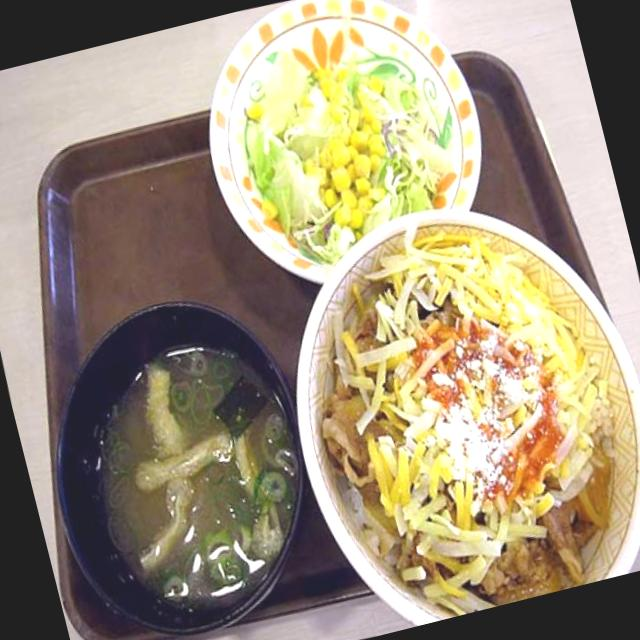Green Salad: (228, 34, 444, 260)
